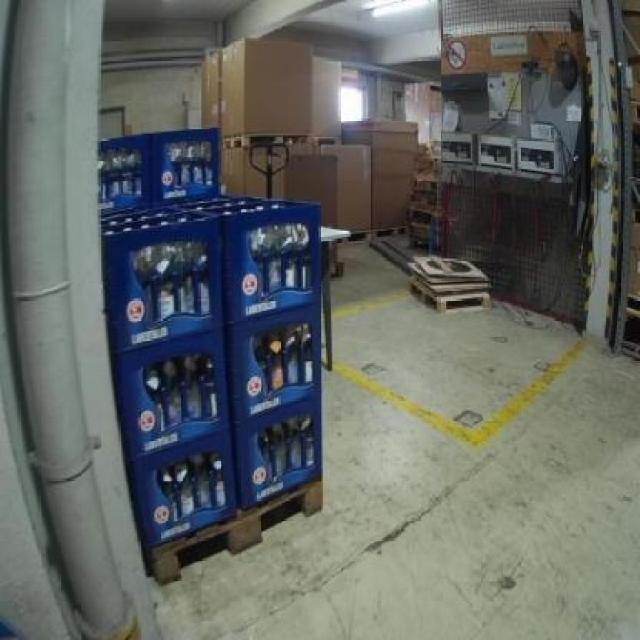pallets: (98, 128, 318, 578), (408, 255, 488, 308)
